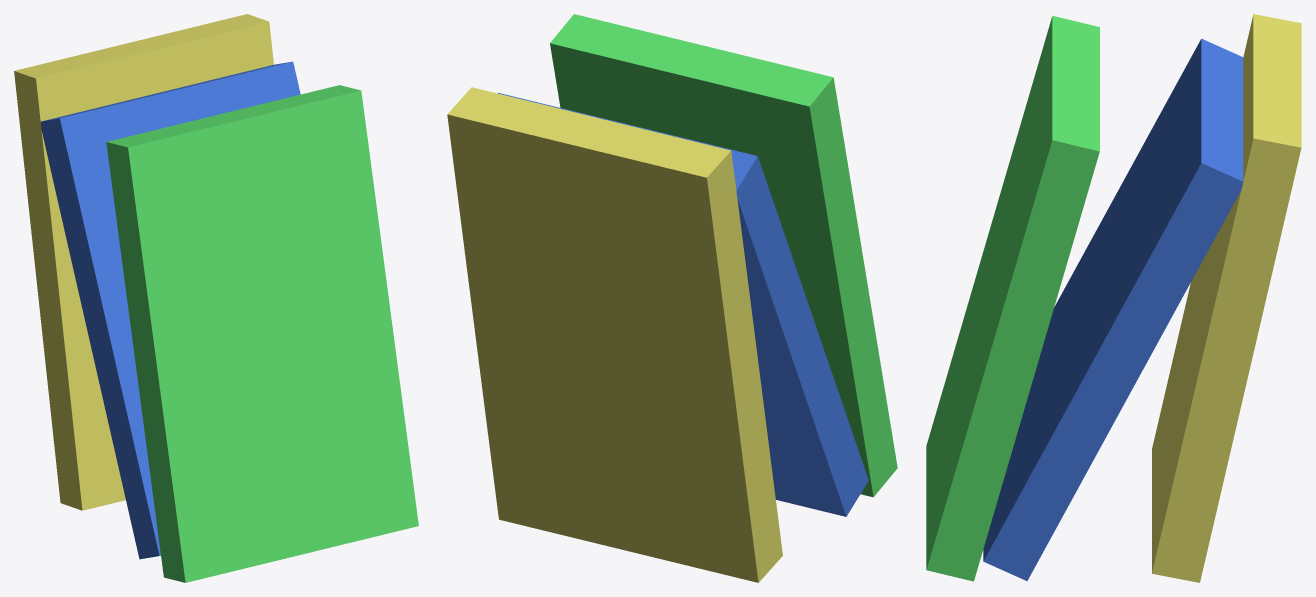
File: Books.fbx
3 views of the same model, side by side, from view 1: azimuth 30°, elevation 25°; view 2: azimuth 150°, elevation 25°; view 3: azimuth 270°, elevation 25° (orthographic). The views are drawn at different scales.
Parts seen in each view (by area): view 1: Books; view 2: Books; view 3: Books.
Boxes of the visible parts, x1=… form: Books: x1=14, y1=14, x2=418, y2=582; Books: x1=447, y1=14, x2=897, y2=582; Books: x1=926, y1=14, x2=1301, y2=582.
Bounding box in the file's own units: 120 × 200 × 153.
